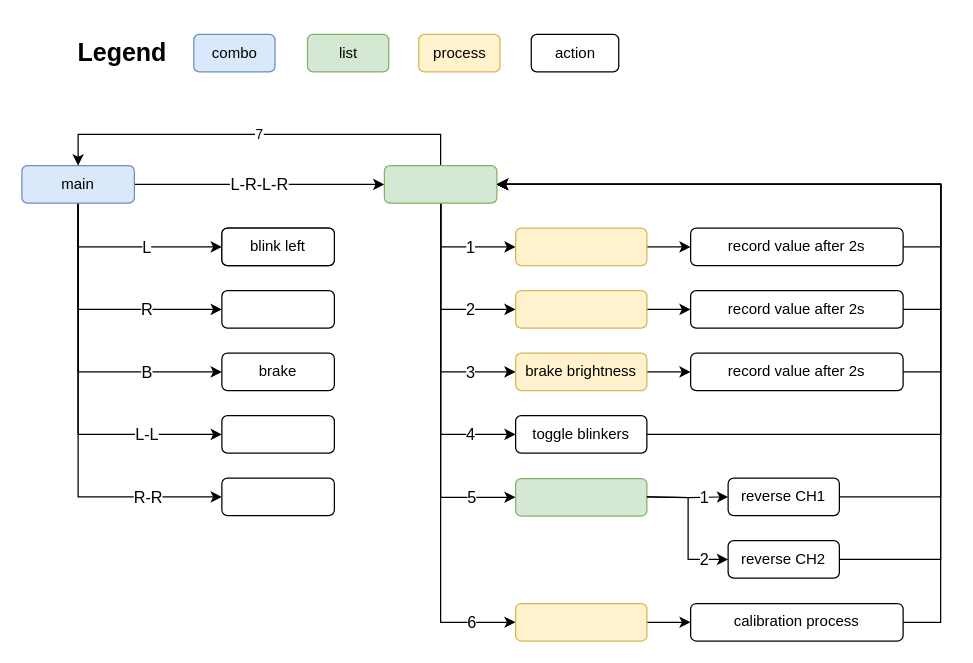
Some shapes in this 973 by 663 pixel diagram are drawn without their labels. Here are the shapes that lost their labels. From the top down, the centre of each, then its label:
At (x=440, y=183): "configuration".
At (x=580, y=246): "front brightness".
At (x=277, y=308): "blink right".
At (x=580, y=308): "rear brightness".
At (x=277, y=433): "lights on/off".
At (x=277, y=496): "hazards on/off".
At (x=580, y=496): "channel reversing".
At (x=580, y=621): "calibration".
